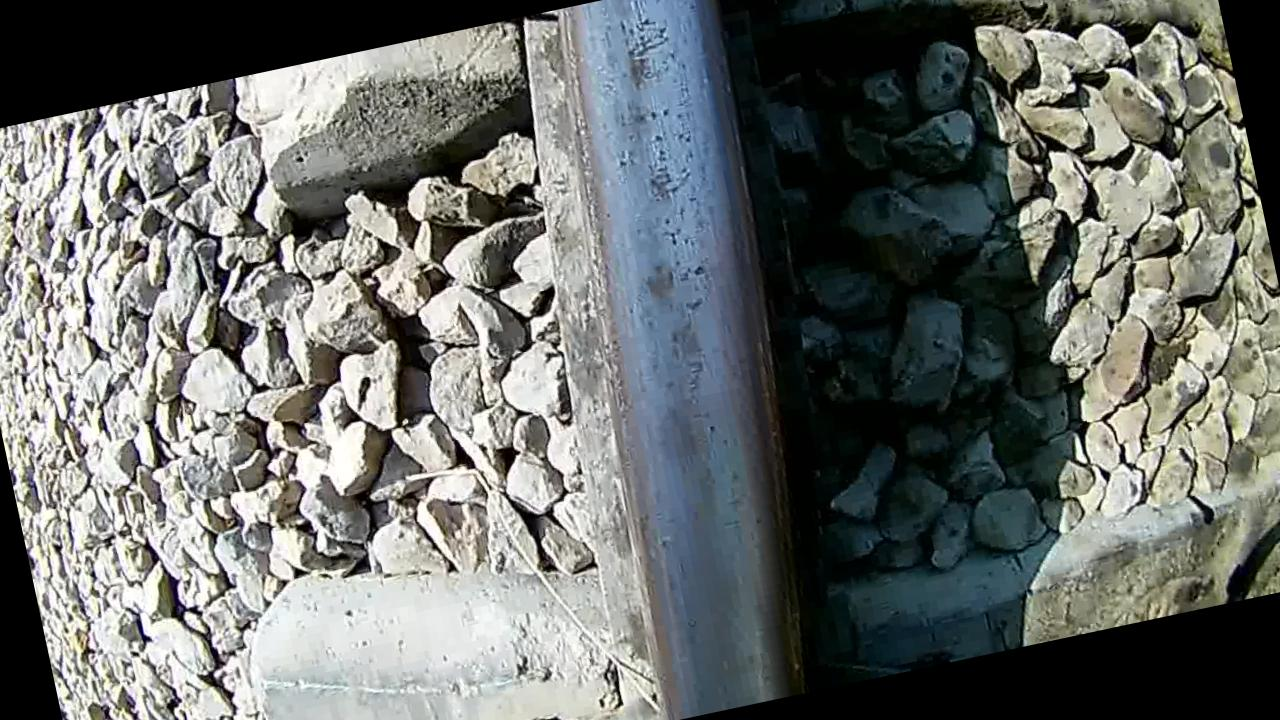crack: (516, 0, 858, 720)
